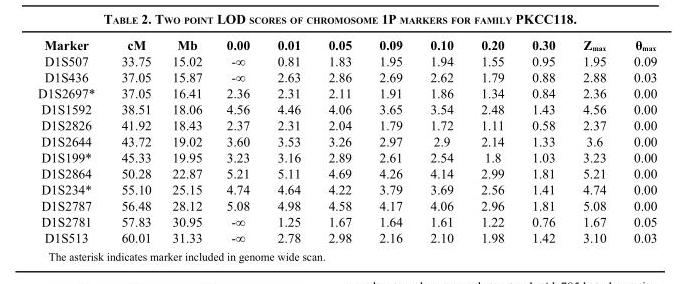table: (37, 37, 656, 244)
table column: (37, 37, 107, 244), (107, 37, 161, 244), (161, 37, 213, 244), (262, 37, 313, 244), (313, 37, 364, 244), (364, 37, 415, 244), (415, 37, 466, 244), (466, 37, 517, 244), (517, 37, 568, 244), (568, 37, 619, 244), (213, 37, 262, 244), (619, 37, 656, 244)
table column header: (37, 37, 656, 52)
table row: (37, 148, 656, 165), (37, 52, 656, 68), (37, 68, 656, 84), (37, 84, 656, 100), (37, 100, 656, 116), (37, 116, 656, 132), (37, 132, 656, 148), (37, 165, 656, 181), (37, 181, 656, 197), (37, 197, 656, 213), (37, 213, 656, 229), (37, 37, 656, 52), (37, 229, 656, 244)
